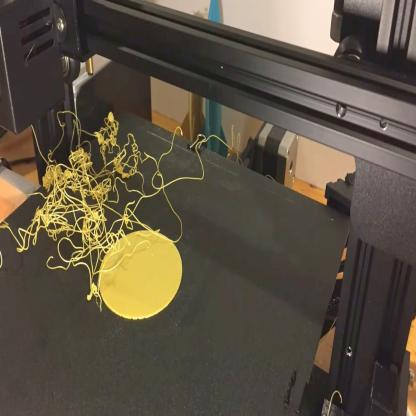fail: (1, 110, 149, 304)
